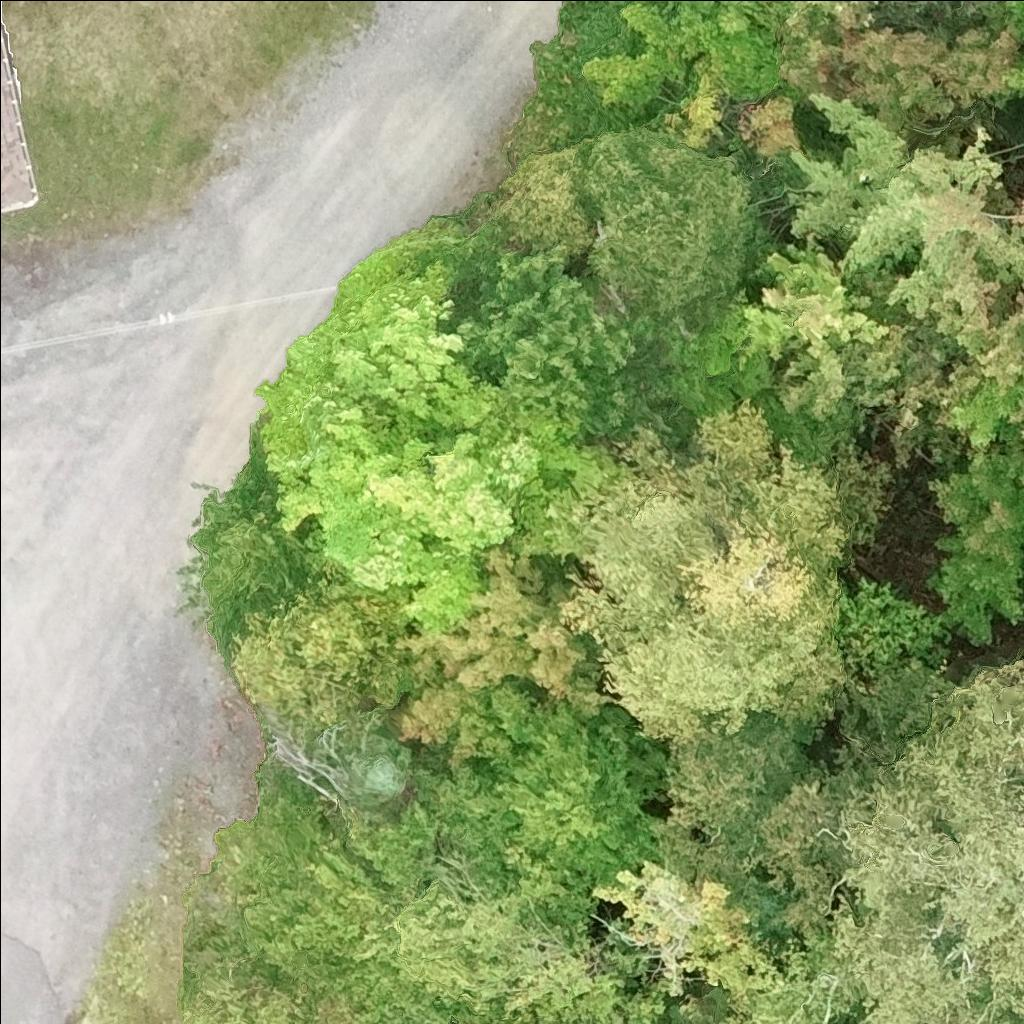crown: (558, 396, 895, 749), (720, 659, 1023, 1023), (253, 255, 541, 630), (219, 788, 668, 1023), (492, 123, 747, 326), (385, 546, 614, 769), (777, 88, 1023, 288), (735, 228, 926, 420), (455, 246, 641, 440), (775, 0, 1020, 133), (234, 583, 417, 753), (691, 296, 862, 461), (662, 711, 814, 884), (476, 399, 624, 562), (924, 448, 1023, 655), (175, 917, 366, 1023), (930, 280, 1023, 463), (883, 241, 1014, 358), (652, 0, 784, 105), (581, 0, 692, 111), (655, 56, 725, 149), (341, 723, 415, 805), (737, 92, 801, 158), (757, 0, 841, 44), (996, 0, 1023, 98), (664, 1007, 690, 1023)
